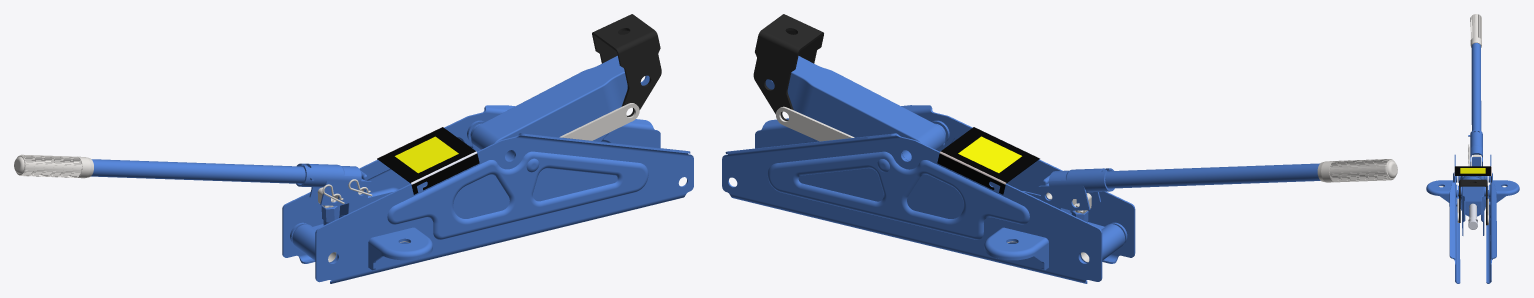
The model's file is Update08.glb.
3 renders of one model, left to right at view 1: azimuth 30°, elevation 25°; view 2: azimuth 150°, elevation 25°; view 3: azimuth 270°, elevation 25°, orthographic. The views are drawn at different scales.
Parts seen in each view (by area): view 1: Update08; view 2: Update08; view 3: Update08.
Part boxes in pixels (<box>): Update08: <box>14,14,693,283</box>; Update08: <box>722,14,1397,283</box>; Update08: <box>1426,14,1519,283</box>.
Size of the model in its own units: 0.7835 by 0.2122 by 0.1778.
